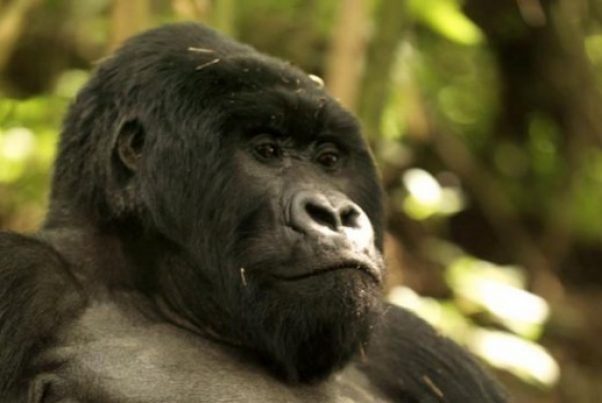Goriila: (21, 10, 444, 397)
